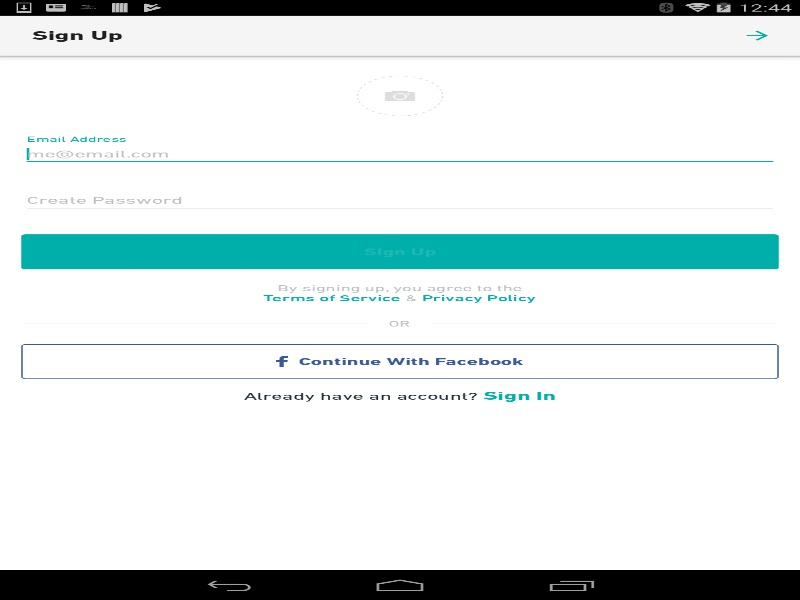Button: (21, 234, 778, 269)
Input: (21, 141, 778, 166), (21, 189, 778, 214)
